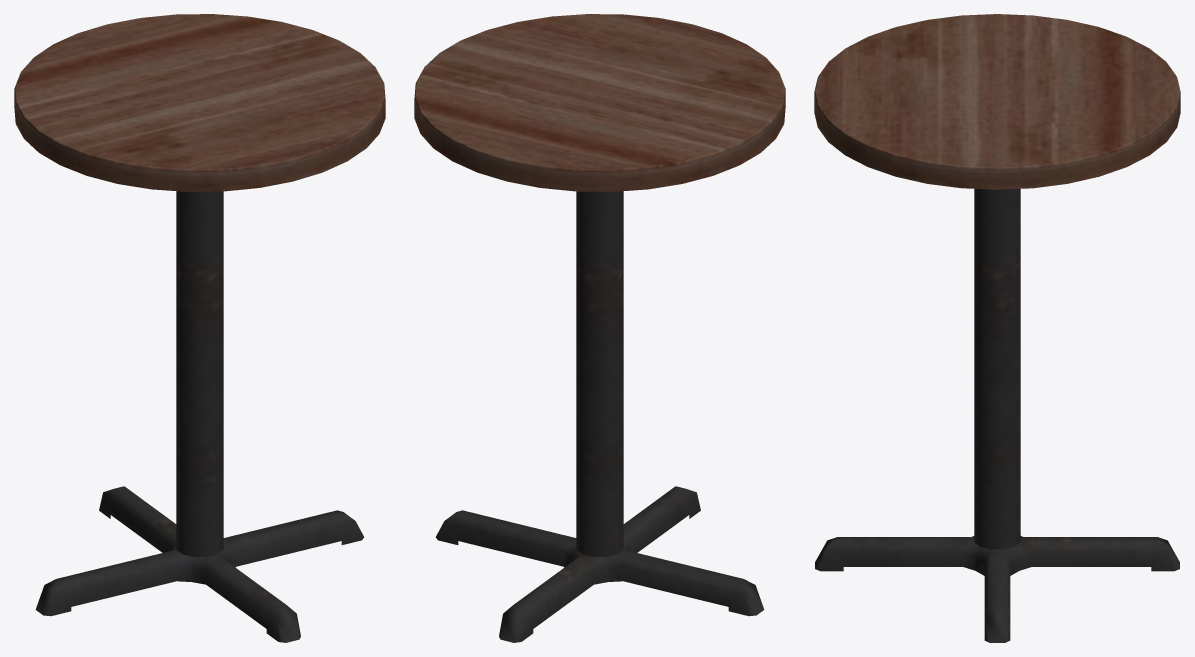
Rendered from mesa1.obj.
3 views of the same model, side by side, from view 1: azimuth 30°, elevation 25°; view 2: azimuth 150°, elevation 25°; view 3: azimuth 270°, elevation 25° (orthographic).
Visible parts, largest first — view 1: table_hightop_Malla; view 2: table_hightop_Malla; view 3: table_hightop_Malla.
Part boxes in pixels (box(x1,y1,x2,y2)): table_hightop_Malla: box(14, 14, 385, 642); table_hightop_Malla: box(414, 14, 785, 642); table_hightop_Malla: box(814, 14, 1180, 642).
Size of the model in its own units: 0.762 by 1.09 by 0.762.
1 material, 1 textured.
